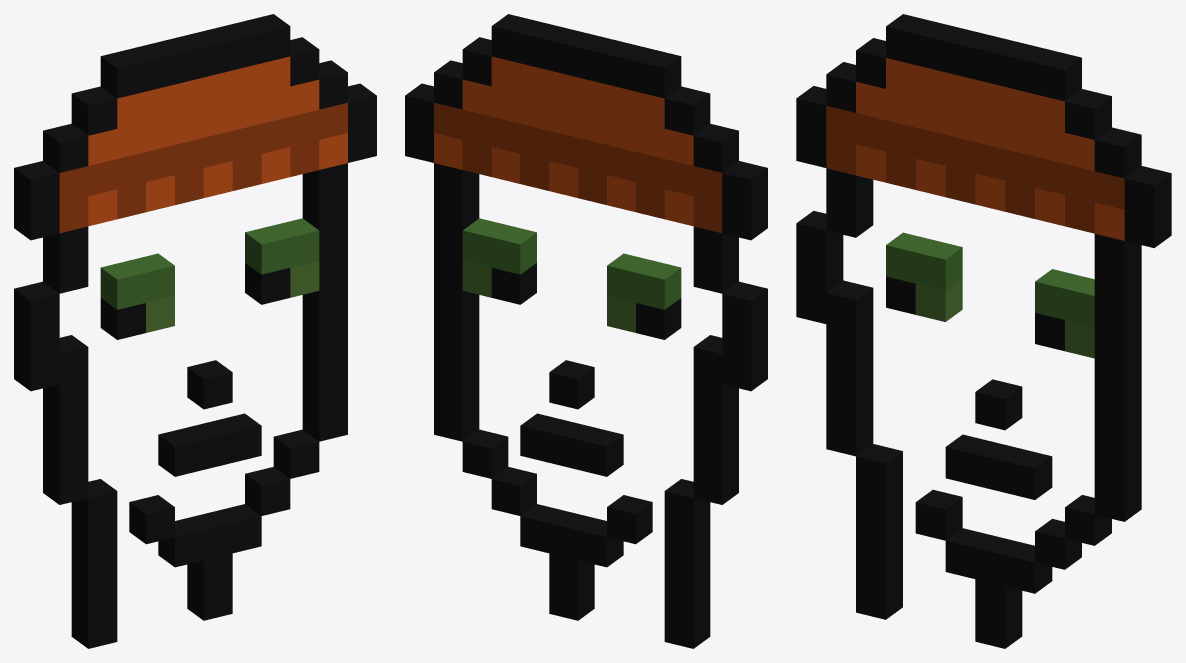
3 renders of one model, left to right at view 1: azimuth 30°, elevation 25°; view 2: azimuth 150°, elevation 25°; view 3: azimuth 330°, elevation 25°, orthographic. The views are drawn at different scales.
Visible parts, largest first — view 1: NoPunk_1940_Mesh; view 2: NoPunk_1940_Mesh; view 3: NoPunk_1940_Mesh.
Boxes of the visible parts, x1,y1,x2,y2 form: NoPunk_1940_Mesh: [14, 14, 376, 648]; NoPunk_1940_Mesh: [405, 14, 767, 648]; NoPunk_1940_Mesh: [796, 14, 1171, 648].
Bounding box in the file's own units: 12 × 19 × 1.
